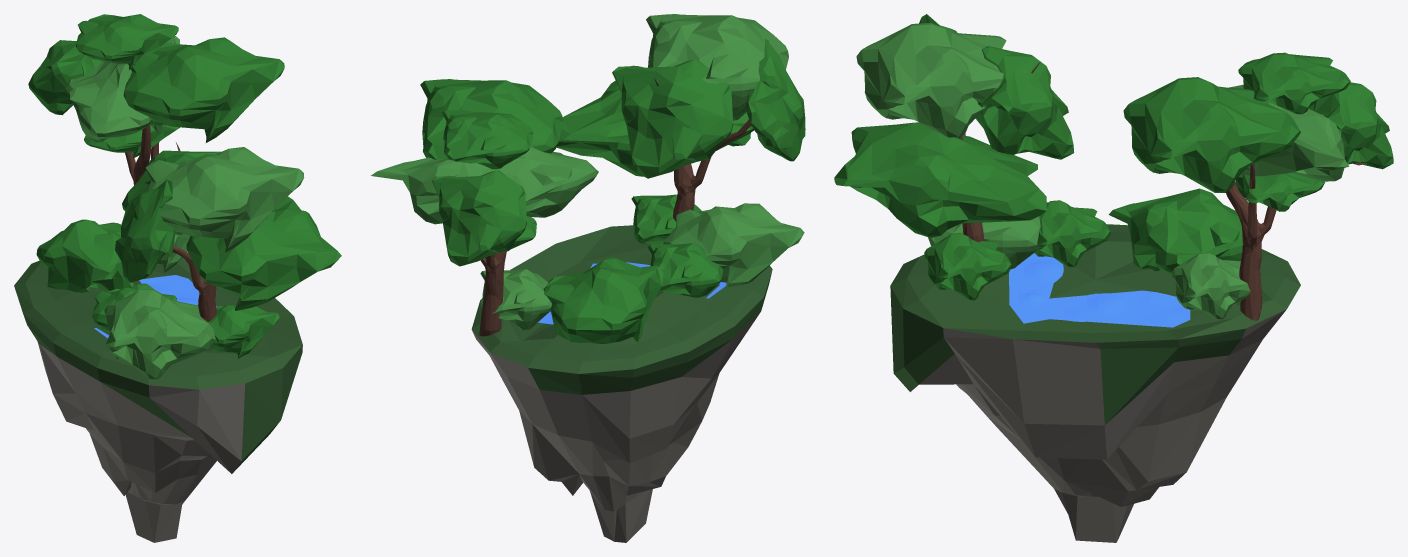
3 views of the same model, side by side, from view 1: azimuth 30°, elevation 25°; view 2: azimuth 150°, elevation 25°; view 3: azimuth 270°, elevation 25° (orthographic). The views are drawn at different scales.
Visible parts, largest first — view 1: pCube13, pCube2, pCube7, pCube10, pCube14, pCube12, pCube5, pCube8, pCube6, pCube3, pCube11, pCube4 (+6 smaller); view 2: pCube13, pCube9, pCube12, pCube7, pCube5, pCube3, pCube14, pCube2, pCube8, pCube10, pCube6, pCube15 (+4 smaller); view 3: pCube13, pCube10, pCube2, pCube7, pCube12, pCube9, pPlane1, pCube6, pCube5, pCube3, pCube11, pCube1 (+4 smaller).
Boxes of the visible parts, x1,y1,x2,y2 form: pCube13: (14,257,302,542); pCube2: (123,37,284,142); pCube7: (145,147,304,252); pCube10: (186,196,341,310); pCube14: (104,289,215,379); pCube12: (36,219,133,292); pCube5: (65,36,179,141); pCube8: (115,177,174,282); pCube6: (76,14,178,69); pCube3: (28,40,101,115); pCube11: (208,303,279,358); pCube4: (84,124,179,158); pCube13: (471,225,772,542); pCube9: (612,59,733,178); pCube12: (543,257,663,343); pCube7: (646,14,788,120); pCube5: (371,146,598,224); pCube3: (432,170,526,266); pCube14: (663,203,804,287); pCube2: (420,79,563,159); pCube8: (746,39,805,161); pCube10: (556,80,754,176); pCube6: (442,110,533,169); pCube15: (648,243,723,297); pCube13: (890,224,1300,542); pCube10: (834,122,1046,237); pCube2: (1123,77,1300,192); pCube7: (856,22,1026,138); pCube12: (1108,188,1242,275); pCube9: (975,46,1074,159); pPlane1: (1009,253,1190,327); pCube6: (1238,52,1350,114); pCube5: (1229,84,1349,181); pCube3: (1308,82,1393,169); pCube11: (924,233,1011,300); pCube1: (1171,252,1250,319).
Size of the model in its own units: 1.22 by 1.94 by 1.93.
